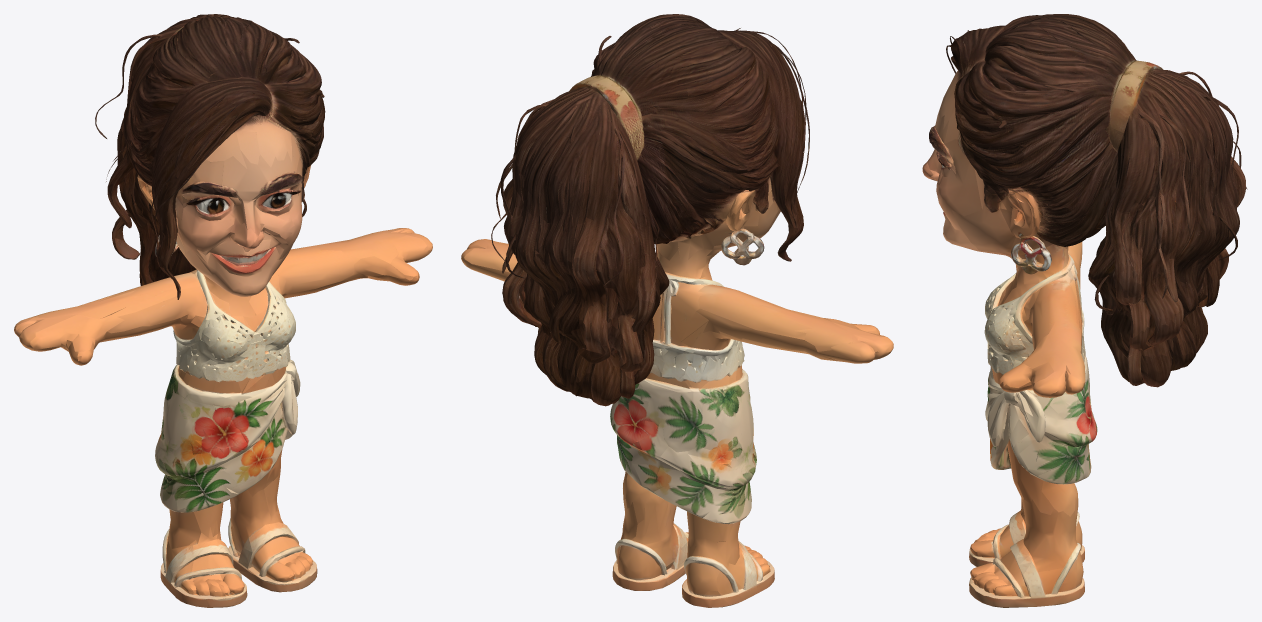
The model's file is fer_src.glb.
3 renders of one model, left to right at view 1: azimuth 30°, elevation 25°; view 2: azimuth 150°, elevation 25°; view 3: azimuth 270°, elevation 25°, orthographic. The views are drawn at different scales.
Parts seen in each view (by area): view 1: Mesh_0; view 2: Mesh_0; view 3: Mesh_0.
Part boxes in pixels (x1,y1,x2,y2): Mesh_0: (14, 14, 432, 607); Mesh_0: (461, 14, 893, 607); Mesh_0: (922, 14, 1247, 607).
Size of the model in its own units: 1.49 by 1.9 by 1.
1 material, 1 textured.
